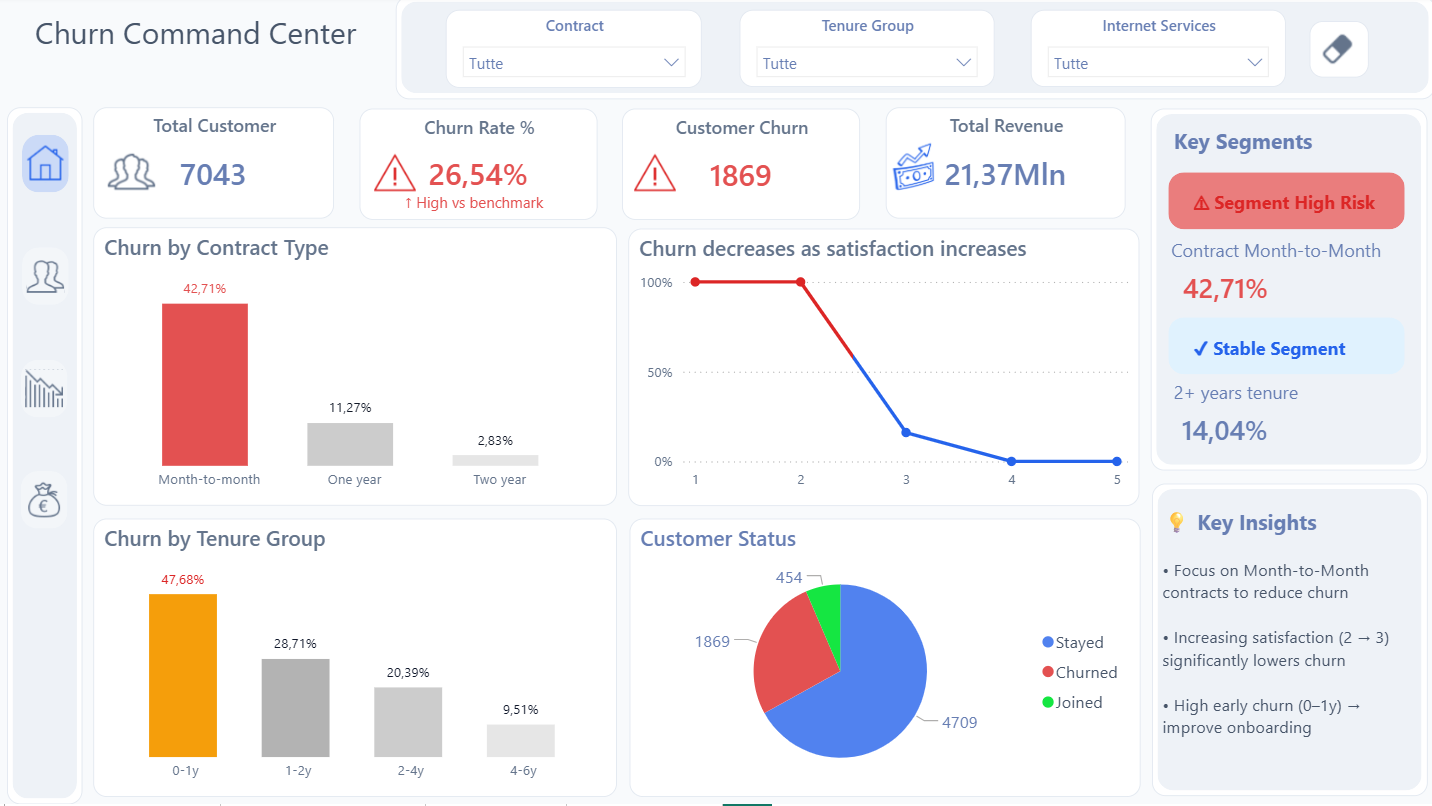

The dashboard page shown, as its layout file describes it:
{"tool":"powerbi","page":{"name":"Churn Command Center","canvas":[1280,720],"ordinal":0},"visuals":[{"type":"shape","box":[355.1,0,925.2,92],"z":0},{"type":"textbox","box":[29.4,8.6,309.2,57.7],"z":1000},{"type":"card","title":"Total Customer","fields":{"Values":["Misure.total_customer"]},"box":[85.9,99.4,214.7,99.4],"z":2000},{"type":"card","title":"Churn Rate %","fields":{"Values":["Misure.churn rate %"]},"box":[322.7,100.6,212.3,99.4],"z":3000},{"type":"card","title":"Total Revenue","fields":{"Values":["Misure.total_revenue"]},"box":[791.4,99.4,213.5,99.4],"z":4000},{"type":"card","title":"Customer Churn","fields":{"Values":["Misure.churn"]},"box":[557.1,100.6,212.3,99.4],"z":5000},{"type":"columnChart","title":"Churn by Contract Type","fields":{"Category":["customer_churn.contract"],"Y":["Misure.churn rate %"]},"box":[85.9,206.1,466.3,247.9],"z":6000},{"type":"columnChart","title":"Churn by Tenure Group","fields":{"Category":["customer_churn.tenure_group"],"Y":["Misure.churn rate %"]},"box":[85.9,465,466.3,247.9],"z":7000},{"type":"lineChart","title":"Churn decreases as satisfaction increases","fields":{"Category":["status.satisfaction_score"],"Y":["Misure.churn rate %"]},"box":[562.6,207.2,455.6,247],"z":8000},{"type":"shape","box":[1027.1,100.4,246.2,322.5],"z":9000},{"type":"shape","box":[1042.6,157,210.8,50.9],"z":10000},{"type":"textbox","box":[1061,166.9,212.2,32.5],"z":11000},{"type":"textbox","box":[1041.2,210.8,215,49.5],"z":12000},{"type":"card","title":"Churn Rate %","fields":{"Values":["Misure.Churn M2M"]},"box":[1039.8,236.3,108.9,49.5],"z":13000},{"type":"shape","box":[1042.6,285.8,210.8,50.9],"z":14000},{"type":"textbox","box":[1061,297.1,198.1,35.4],"z":15000},{"type":"textbox","box":[1042.6,336.7,179.7,50.9],"z":16000},{"type":"card","title":"Churn Rate %","fields":{"Values":["Misure.Churn Stable"]},"box":[1039.8,362.2,107.5,50.9],"z":17000},{"type":"slicer","title":"Contract","fields":{"Values":["customer_churn.contract"]},"box":[400,12.3,228.2,69.9],"z":18000},{"type":"slicer","title":"Internet Services","fields":{"Values":["customer_churn.internet_service"]},"box":[920.3,12.3,227,68.7],"z":19000},{"type":"textbox","box":[1042.6,111.8,155.6,45.3],"z":20000},{"type":"shape","box":[8.6,99.4,67.5,620.9],"z":21000},{"type":"textbox","box":[358.3,168.1,155.8,38],"z":22000},{"type":"actionButton","box":[94.5,131.3,50.3,51.5],"z":23000},{"type":"actionButton","box":[331.3,131.3,45.4,51.5],"z":24000},{"type":"actionButton","box":[789,116.6,55.2,71.2],"z":25000},{"type":"shape","box":[1028.2,434.4,245.4,278.5],"z":26000},{"type":"textbox","box":[1033.1,450.3,223.3,249.1],"z":27000},{"type":"slicer","title":"Tenure Group","fields":{"Values":["customer_churn.tenure_group"]},"box":[660.7,12.3,227,68.7],"z":28000},{"type":"actionButton","box":[1169.3,22.1,52.8,50.3],"z":29000},{"type":"actionButton","box":[22.1,123.9,41.7,51.5],"z":30000},{"type":"actionButton","box":[22.1,223.7,41.7,51.5],"z":31000},{"type":"actionButton","box":[20.9,423.3,41.7,51.5],"z":32000},{"type":"actionButton","box":[20.9,323.5,41.7,51.5],"z":33000},{"type":"actionButton","box":[563.2,131.3,45.4,51.5],"z":34000},{"type":"pieChart","title":"Customer  Status","fields":{"Category":["status.customer_status"],"Y":["Misure.total_customer"]},"box":[563.2,465,455.2,247.9],"z":35000}]}

Visuals, with their boxes in screenshot pixels (x1, y1, x2, y2), scaled from the page's 1280x720 canvas onto the 1432x806 screenshot:
shape: [397, 0, 1431, 103]
textbox: [33, 10, 379, 74]
"Total Customer" card: [96, 111, 336, 223]
"Churn Rate %" card: [361, 113, 599, 224]
"Total Revenue" card: [885, 111, 1124, 223]
"Customer Churn" card: [623, 113, 861, 224]
"Churn by Contract Type" columnChart: [96, 231, 618, 508]
"Churn by Tenure Group" columnChart: [96, 521, 618, 798]
"Churn decreases as satisfaction increases" lineChart: [629, 232, 1139, 508]
shape: [1149, 112, 1425, 473]
shape: [1166, 176, 1402, 233]
textbox: [1187, 187, 1424, 223]
textbox: [1165, 236, 1405, 291]
"Churn Rate %" card: [1163, 265, 1285, 320]
shape: [1166, 320, 1402, 377]
textbox: [1187, 333, 1409, 372]
textbox: [1166, 377, 1367, 434]
"Churn Rate %" card: [1163, 405, 1284, 462]
"Contract" slicer: [447, 14, 703, 92]
"Internet Services" slicer: [1030, 14, 1284, 91]
textbox: [1166, 125, 1340, 176]
shape: [10, 111, 85, 805]
textbox: [401, 188, 575, 231]
actionButton: [106, 147, 162, 205]
actionButton: [371, 147, 421, 205]
actionButton: [883, 131, 944, 210]
shape: [1150, 486, 1425, 798]
textbox: [1156, 504, 1406, 783]
"Tenure Group" slicer: [739, 14, 993, 91]
actionButton: [1308, 25, 1367, 81]
actionButton: [25, 139, 71, 196]
actionButton: [25, 250, 71, 308]
actionButton: [23, 474, 70, 532]
actionButton: [23, 362, 70, 420]
actionButton: [630, 147, 681, 205]
"Customer  Status" pieChart: [630, 521, 1139, 798]
